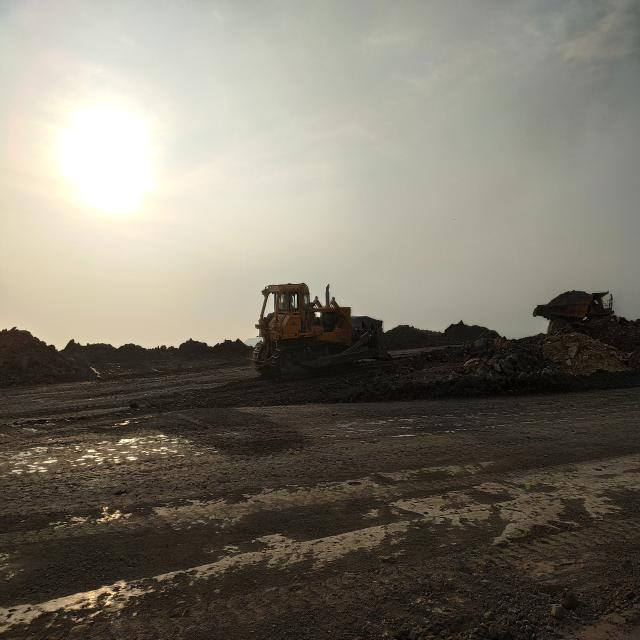buldozerpayloadergrader: (252, 283, 388, 380)
dump_truck: (532, 292, 614, 333)
